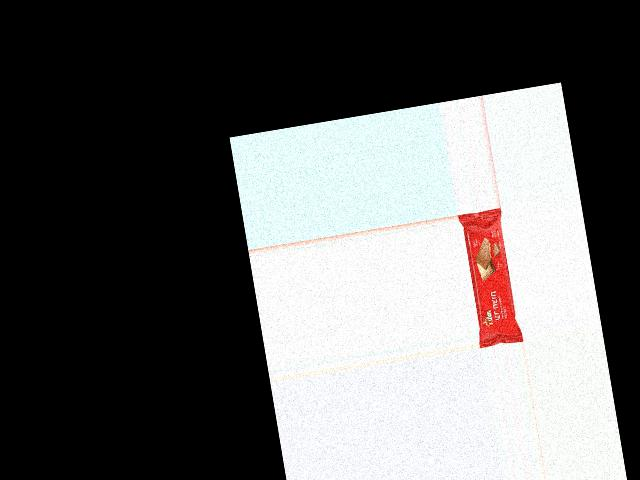chocolate: (458, 209, 523, 345)
